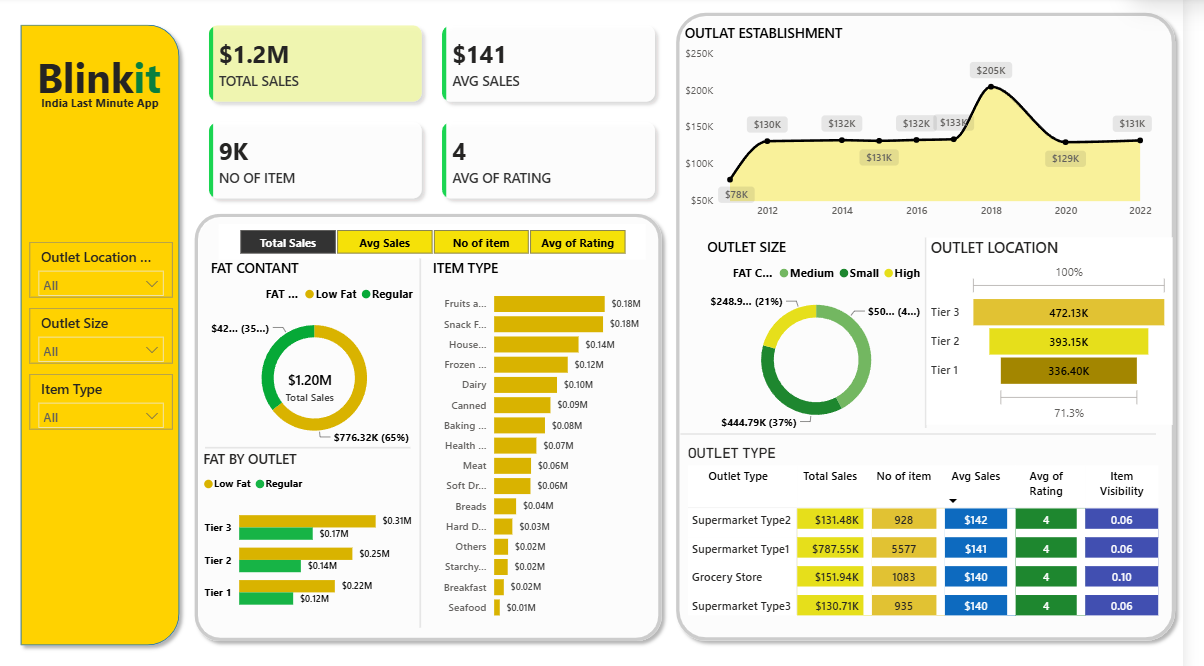

This screenshot's page, from the dashboard's own definition file:
{"tool":"powerbi","page":{"name":"Page 1","canvas":[1400,800],"ordinal":0},"visuals":[{"type":"shape","box":[21.2,24.7,205,749.4],"z":0},{"type":"textbox","box":[44.2,56.6,159.1,79.5],"z":1000},{"type":"textbox","box":[49.5,111.3,173.2,31.8],"z":2000},{"type":"cardVisual","fields":{"Data":["BlinkIT Grocery Data.Total Sales","BlinkIT Grocery Data.Avg Sales","BlinkIT Grocery Data.No of item","BlinkIT Grocery Data.Avg of Rating"]},"box":[222.7,5.3,585,263.3],"z":3000},{"type":"shape","box":[226.7,246.7,568.3,521.7],"z":4000},{"type":"slicer","fields":{"Values":["Metrics.Metrics"]},"box":[263.3,268.3,503.3,41.7],"z":4001},{"type":"donutChart","title":"FAT CONTANT","fields":{"Category":["BlinkIT Grocery Data.Item Fat Content"],"Y":["BlinkIT Grocery Data.Total Sales"]},"box":[248.3,310,253.3,230],"z":4002},{"type":"cardVisual","fields":{"Data":["BlinkIT Grocery Data.Total Sales"]},"box":[313.3,413.3,116.7,95],"z":4003},{"type":"clusteredBarChart","title":"FAT BY OUTLET","fields":{"Category":["BlinkIT Grocery Data.Outlet Location Type"],"Series":["BlinkIT Grocery Data.Item Fat Content"],"Y":["BlinkIT Grocery Data.Total Sales"]},"box":[240,533.3,261.7,205],"z":4004},{"type":"shape","box":[248,508,242,50],"z":4005},{"type":"shape","box":[475,310,51.2,435],"z":4006},{"type":"barChart","title":"ITEM TYPE","fields":{"Category":["BlinkIT Grocery Data.Item Type"],"Y":["BlinkIT Grocery Data.Total Sales"]},"box":[510,310,255,435],"z":4007},{"type":"shape","box":[794,10,606,758],"z":4008},{"type":"lineChart","title":"OUTLAT ESTABLISHMENT","fields":{"Category":["BlinkIT Grocery Data.Outlet Establishment Year"],"Y":["BlinkIT Grocery Data.Total Sales"]},"box":[807.7,31.8,560.2,238.6],"z":4009},{"type":"donutChart","title":"OUTLET SIZE","fields":{"Category":["BlinkIT Grocery Data.Outlet Size"],"Y":["BlinkIT Grocery Data.Total Sales"]},"box":[834.2,284.5,266,237],"z":4010},{"type":"shape","box":[1071,284.5,51.3,224.5],"z":4011},{"type":"funnel","title":"OUTLET LOCATION","fields":{"Category":["BlinkIT Grocery Data.Outlet Location Type"],"Y":["Sum(BlinkIT Grocery Data.Sales)"]},"box":[1097.5,284.5,289.8,220.9],"z":4012},{"type":"shape","box":[807.7,491.3,560.2,49.5],"z":4013},{"type":"pivotTable","title":"OUTLET TYPE","fields":{"Rows":["BlinkIT Grocery Data.Outlet Type"],"Values":["BlinkIT Grocery Data.Total Sales","BlinkIT Grocery Data.No of item","BlinkIT Grocery Data.Avg Sales","BlinkIT Grocery Data.Avg of Rating","Avg(BlinkIT Grocery Data.Item Visibility)"]},"box":[811.7,528.3,580,216.7],"z":4014},{"type":"slicer","fields":{"Values":["BlinkIT Grocery Data.Outlet Location Type"]},"box":[40,290,168.3,65],"z":4015},{"type":"slicer","fields":{"Values":["BlinkIT Grocery Data.Outlet Size"]},"box":[40,368.3,168.3,65],"z":4016},{"type":"slicer","fields":{"Values":["BlinkIT Grocery Data.Item Type"]},"box":[40,445,168.3,65],"z":4017}]}

Visuals, with their boxes on the page's 1400x800 design canvas (x1, y1, x2, y2). These are canvas units, not pixel positions in the 1204x666 screenshot, which may show the page scaled, cropped or inside an application window:
shape: bbox(21, 25, 226, 774)
textbox: bbox(44, 57, 203, 136)
textbox: bbox(50, 111, 223, 143)
cardVisual - BlinkIT Grocery Data.Total Sales x BlinkIT Grocery Data.Avg Sales: bbox(223, 5, 808, 269)
shape: bbox(227, 247, 795, 768)
slicer - Metrics.Metrics: bbox(263, 268, 767, 310)
"FAT CONTANT" donutChart: bbox(248, 310, 502, 540)
cardVisual - BlinkIT Grocery Data.Total Sales: bbox(313, 413, 430, 508)
"FAT BY OUTLET" clusteredBarChart: bbox(240, 533, 502, 738)
shape: bbox(248, 508, 490, 558)
shape: bbox(475, 310, 526, 745)
"ITEM TYPE" barChart: bbox(510, 310, 765, 745)
shape: bbox(794, 10, 1400, 768)
"OUTLAT ESTABLISHMENT" lineChart: bbox(808, 32, 1368, 270)
"OUTLET SIZE" donutChart: bbox(834, 284, 1100, 522)
shape: bbox(1071, 284, 1122, 509)
"OUTLET LOCATION" funnel: bbox(1098, 284, 1387, 505)
shape: bbox(808, 491, 1368, 541)
"OUTLET TYPE" pivotTable: bbox(812, 528, 1392, 745)
slicer - BlinkIT Grocery Data.Outlet Location Type: bbox(40, 290, 208, 355)
slicer - BlinkIT Grocery Data.Outlet Size: bbox(40, 368, 208, 433)
slicer - BlinkIT Grocery Data.Item Type: bbox(40, 445, 208, 510)
